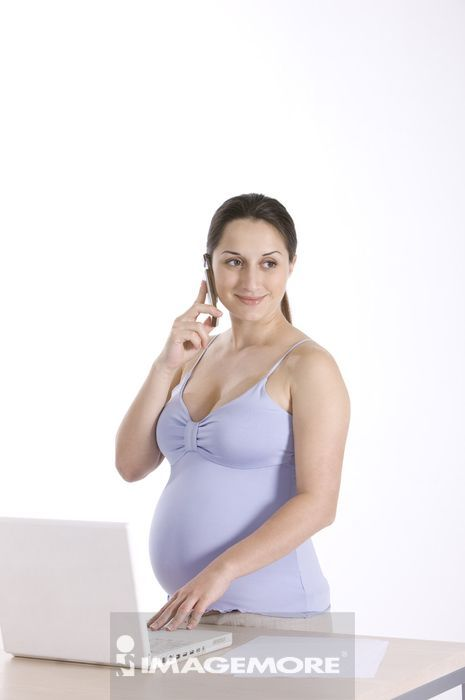talk: (168, 249, 284, 369)
